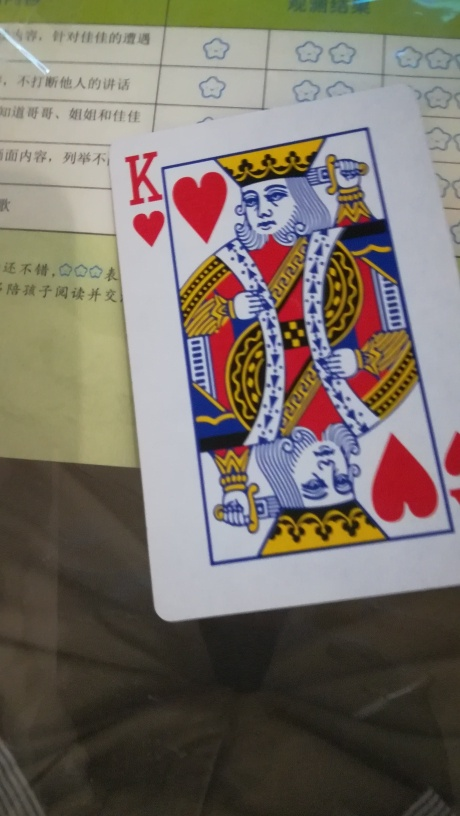hx k: (113, 115, 460, 627)
